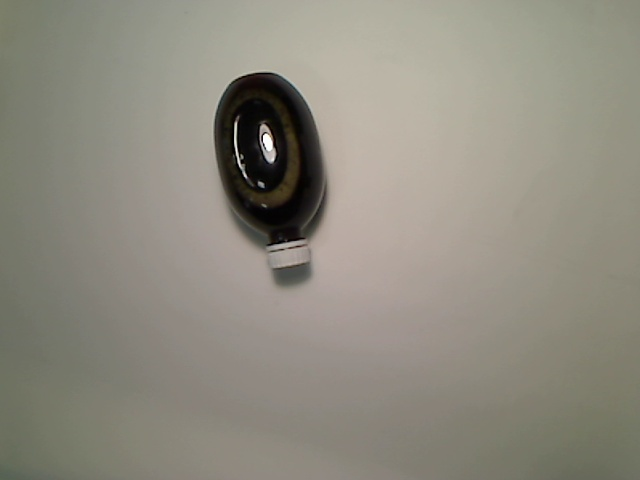plast_bottle: (212, 70, 330, 272)
